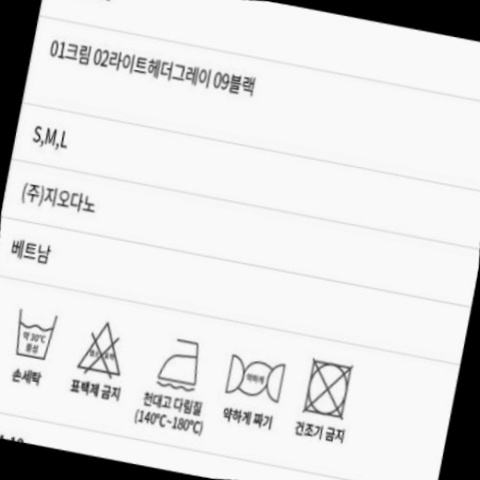30C: (1, 295, 73, 370)
DN_tumble_dry: (288, 344, 370, 431)
iron: (213, 339, 300, 413), (143, 320, 219, 402)
non_chlorine_bleach: (66, 305, 146, 390)
